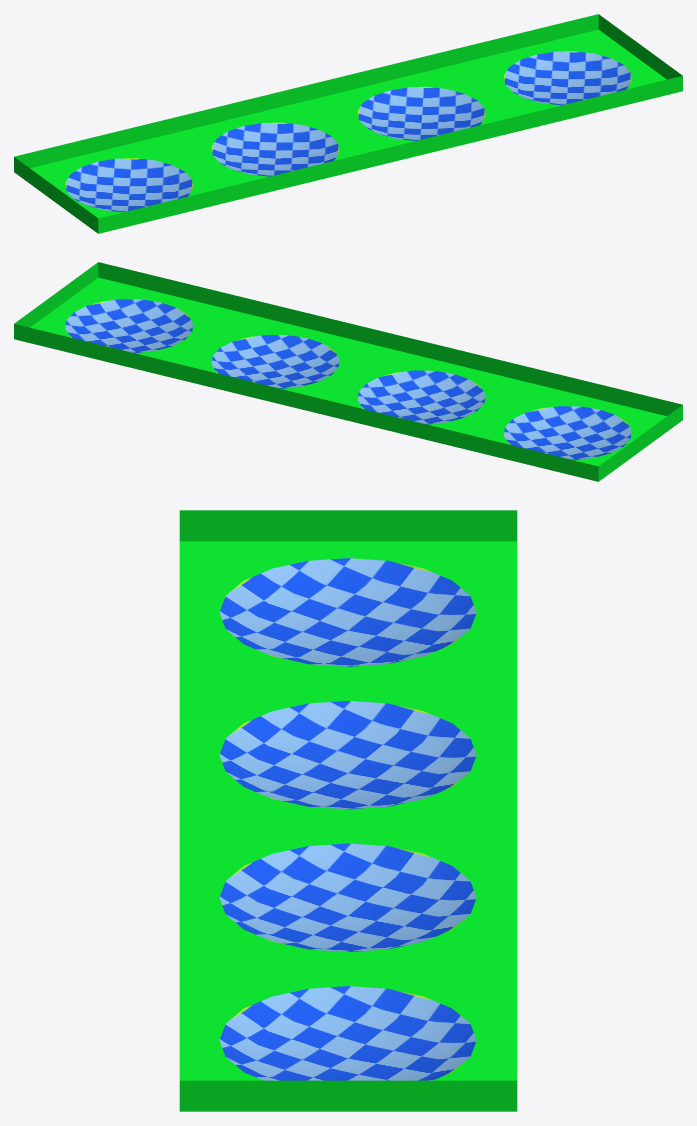
Rendered from LightCeiling01_14.FBX.
3 renders of one model, top to bottom at view 1: azimuth 30°, elevation 25°; view 2: azimuth 150°, elevation 25°; view 3: azimuth 270°, elevation 25°, orthographic. The views are drawn at different scales.
Visible parts, largest first — view 1: LightCeiling01_14; view 2: LightCeiling01_14; view 3: LightCeiling01_14.
Boxes of the visible parts, left/top/right/bottom form: LightCeiling01_14: left=14, top=14, right=682, bottom=233; LightCeiling01_14: left=14, top=262, right=682, bottom=481; LightCeiling01_14: left=179, top=510, right=517, bottom=1111.
Size of the model in its own units: 60 by 2.41 by 15.
